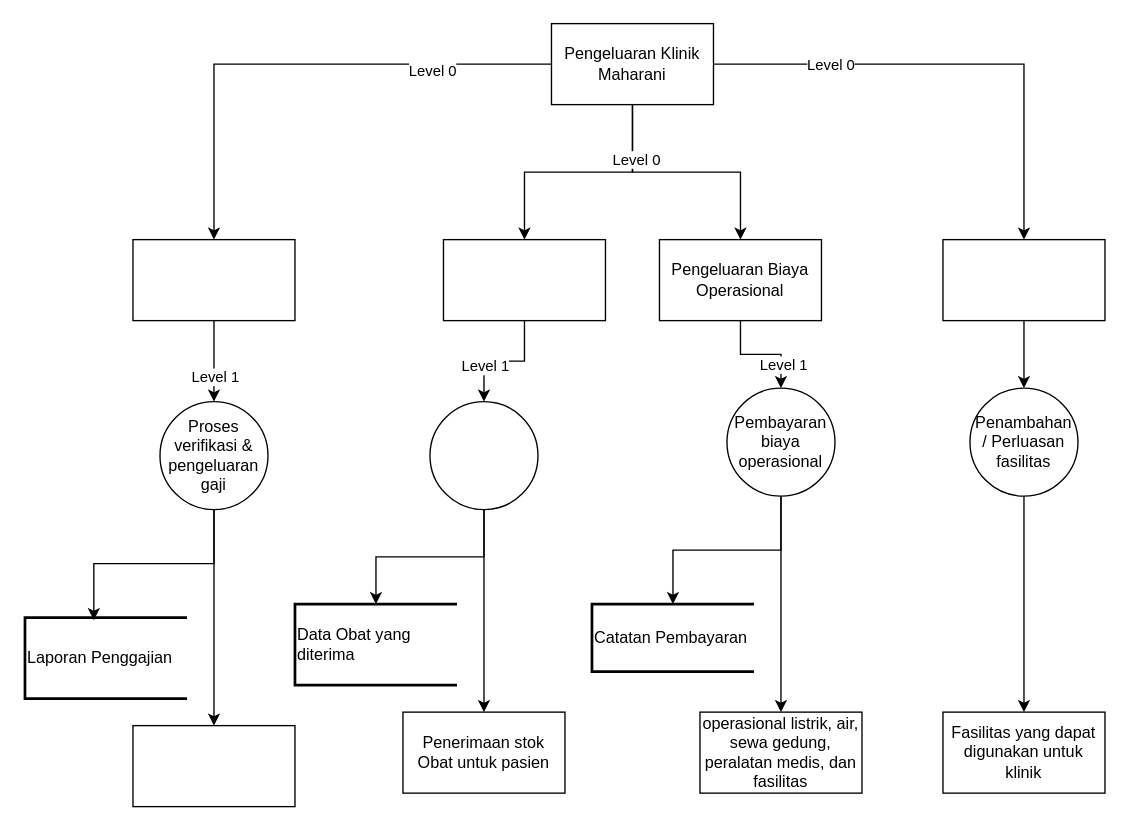
Image size: 1129x830. Some labels were removed from this diagram. The shapes that lost their labels are listed below. From the top down, each one's centre as x and y in pixels, then its label:
the point at 213,279: Pengeluaran untuk gaji dan honorarium
the point at 523,279: Pengeluaran untuk pembelian obat
the point at 1023,279: Pengeluaran untuk perluasan & penambahan fasilitas
the point at 483,455: Pembelian obat
the point at 213,765: Penerimaan Gaji oleh staff, perawat dan dokter
